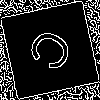C: (25, 25, 84, 81)
